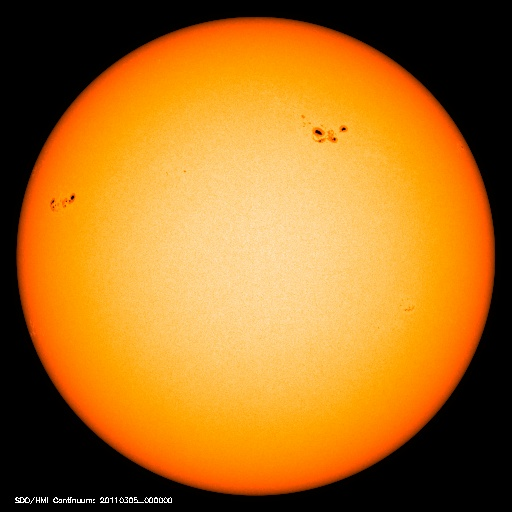sunspot: (298, 105, 359, 154), (41, 184, 85, 216), (393, 294, 419, 319)
